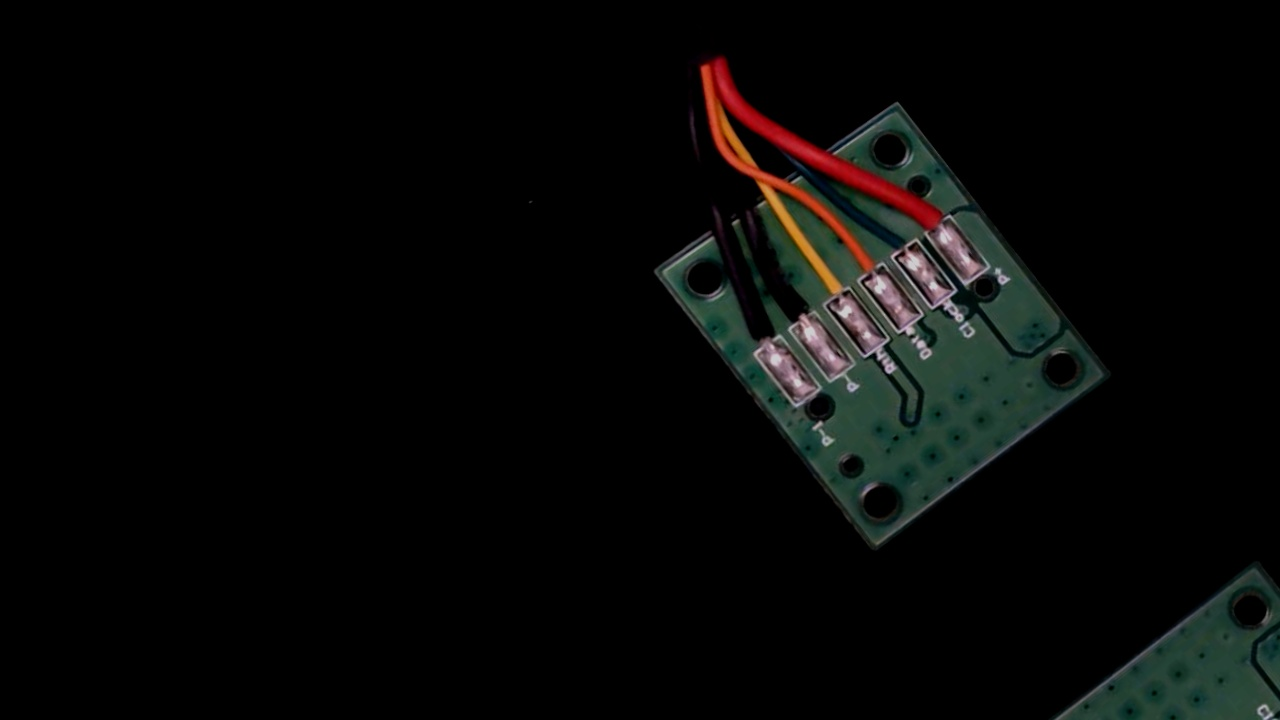Black: (756, 269, 827, 344)
Black1: (725, 299, 791, 369)
Green: (864, 201, 930, 271)
Orange: (830, 225, 895, 294)
Red: (887, 169, 959, 245)
Yellow: (791, 244, 861, 320)
